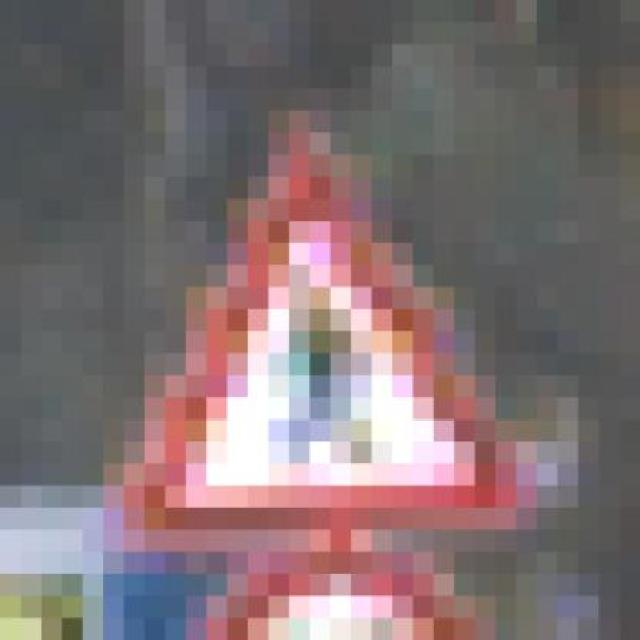Pedestrian Crossing: (103, 93, 537, 556)
